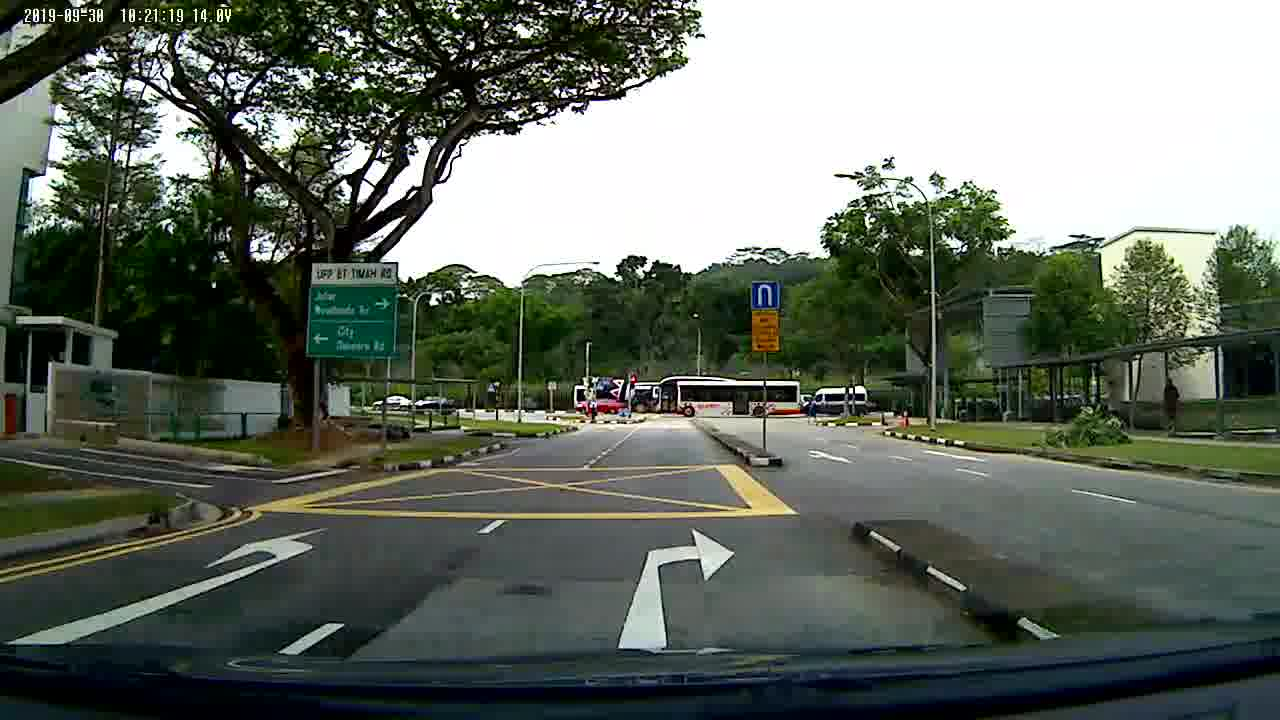bus: (651, 374, 801, 420)
car: (577, 398, 629, 413)
